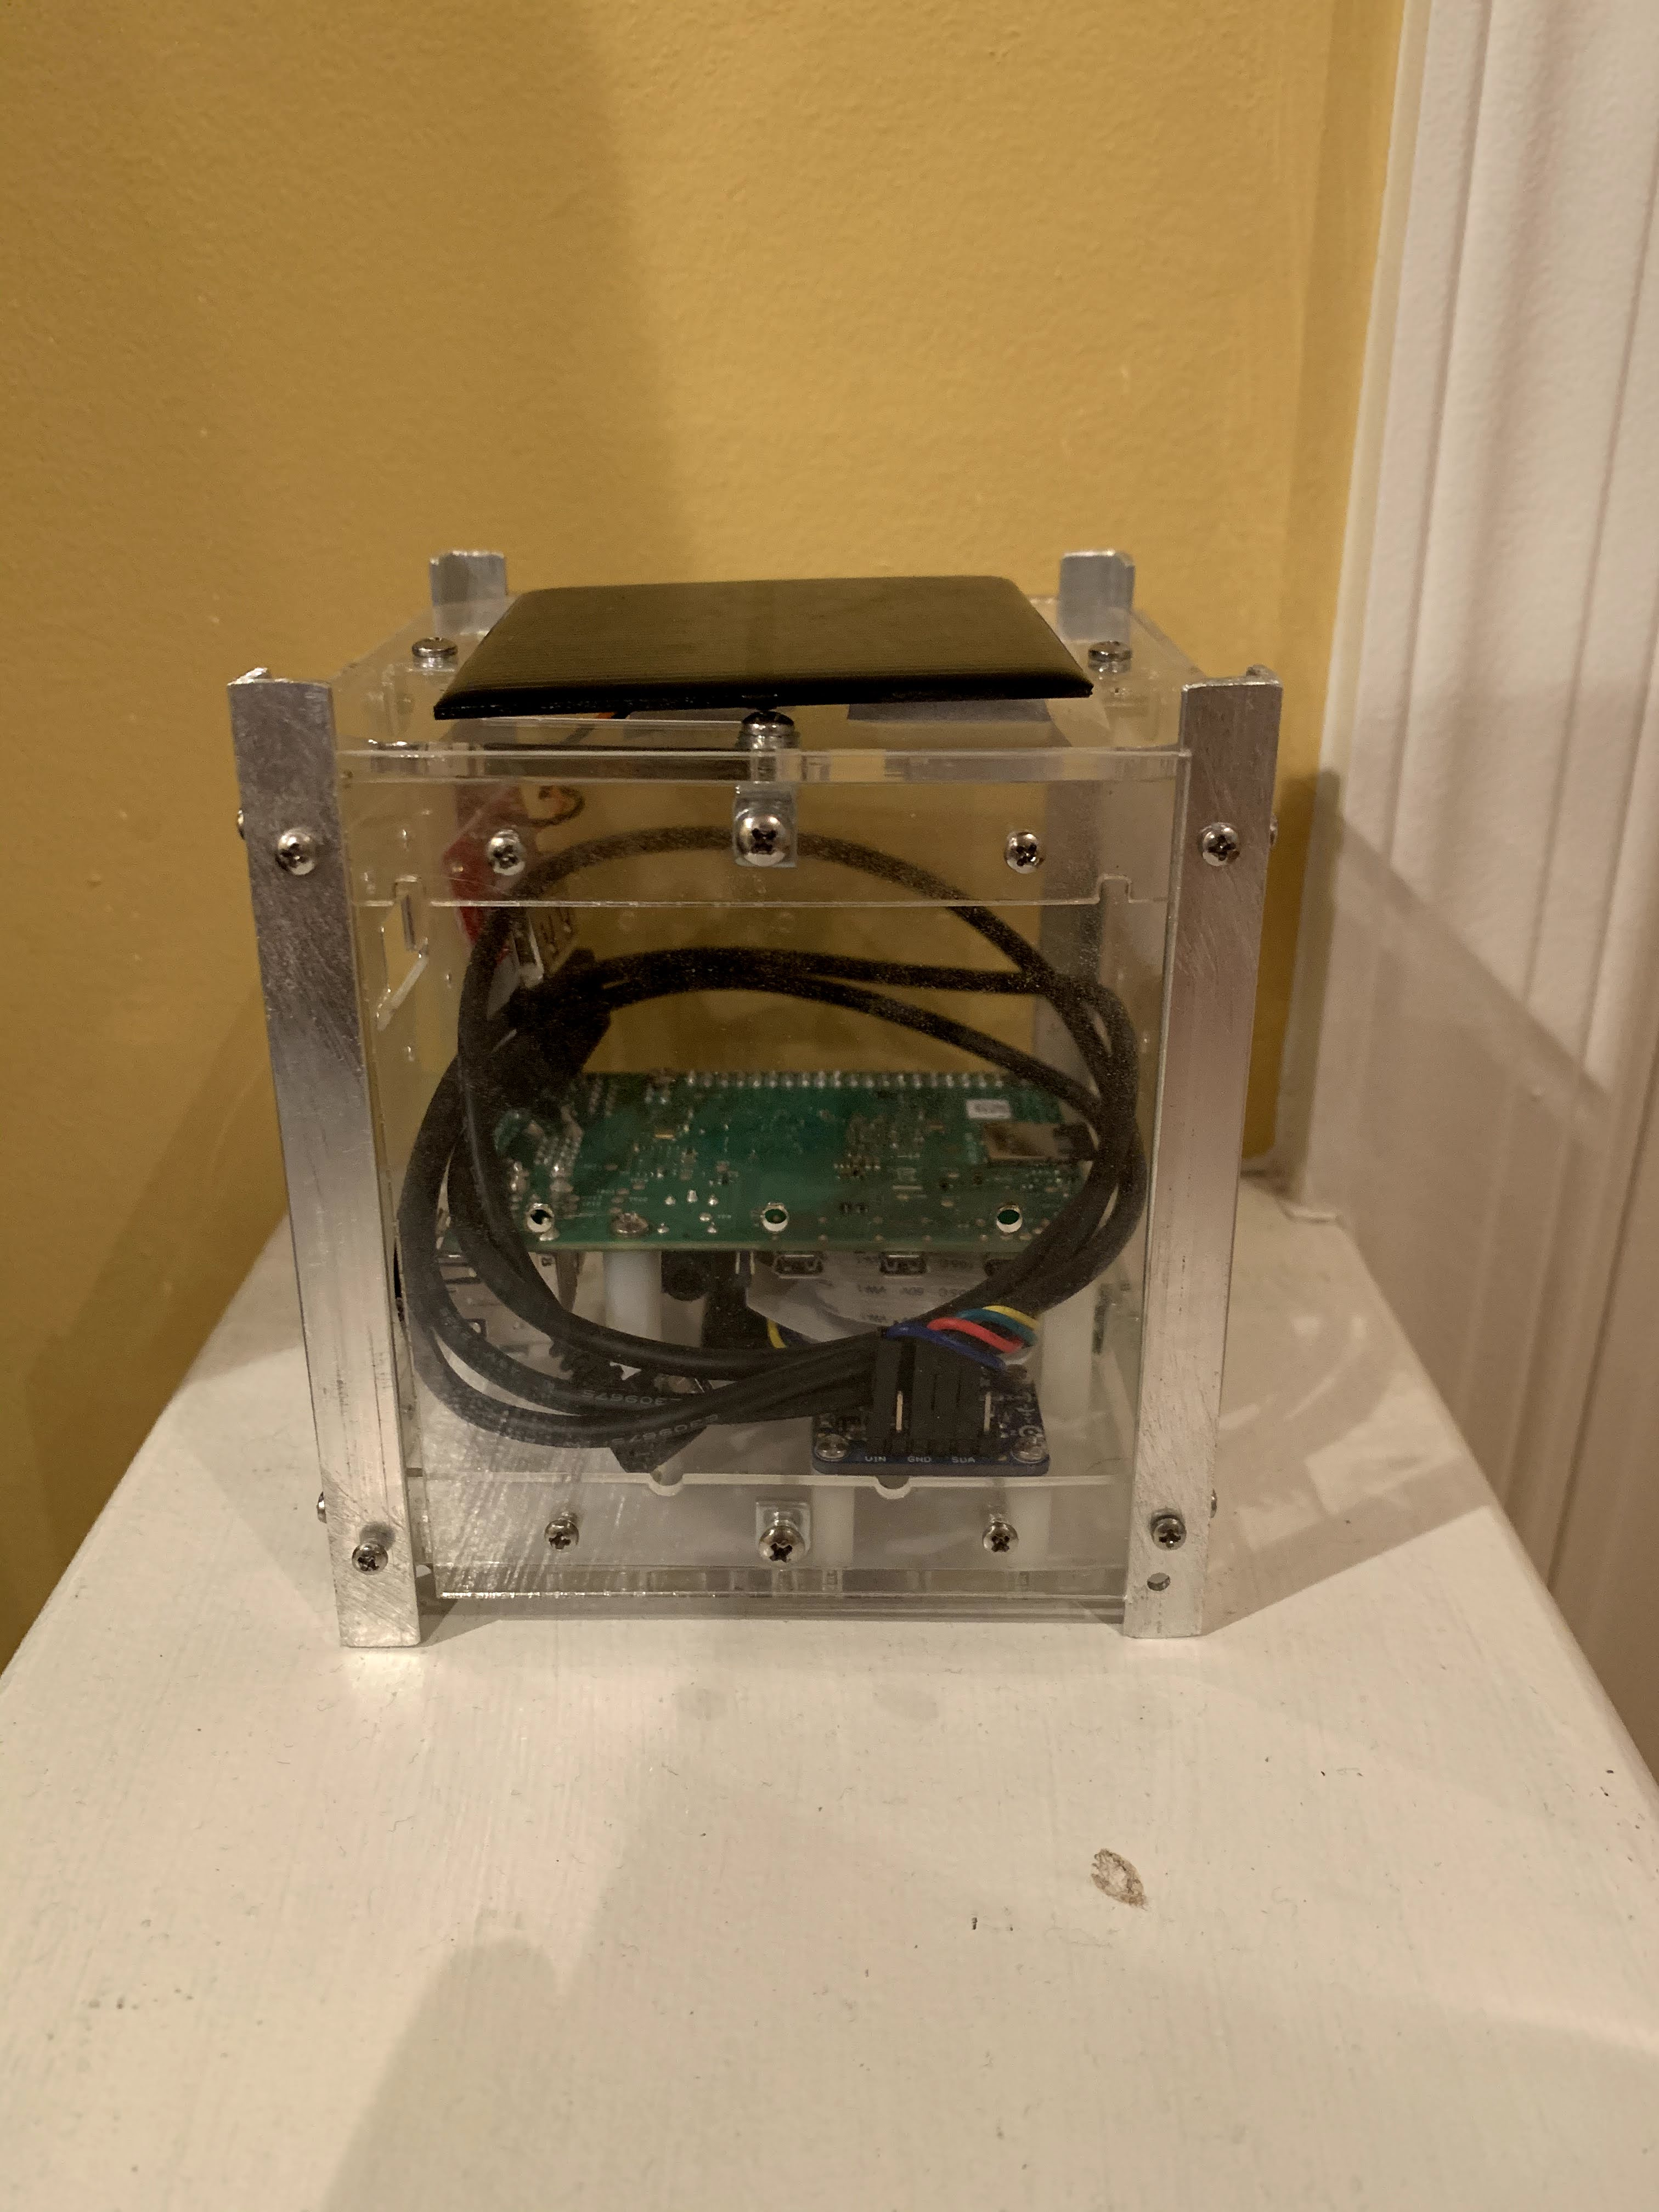Space-debris-cubesat: (220, 524, 1314, 1688)
